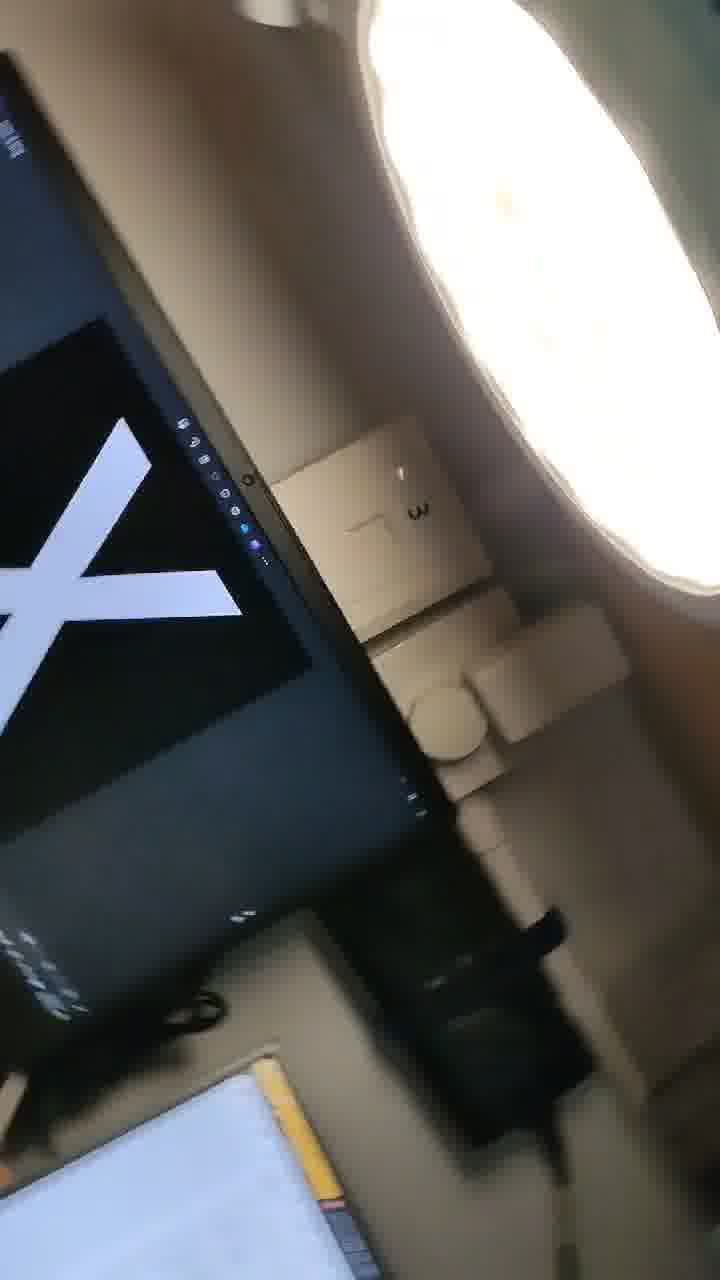X: (2, 368, 286, 791)
